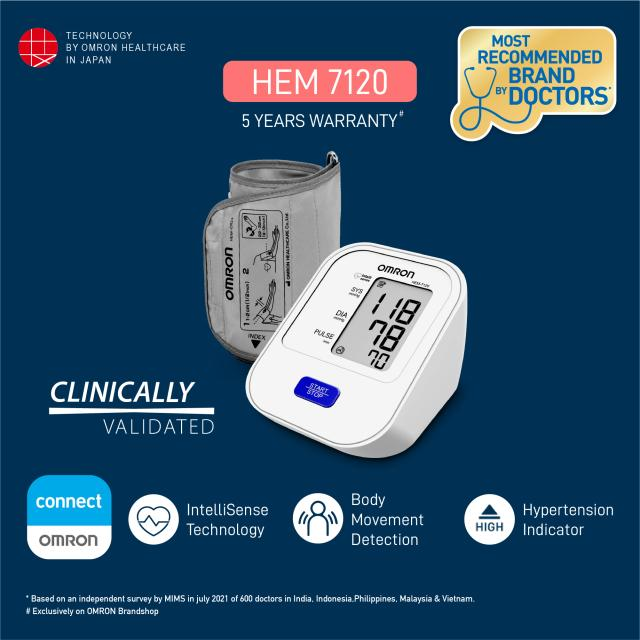dia: (354, 313, 409, 357)
pul: (356, 343, 392, 373)
ssd: (328, 260, 434, 382)
sys: (357, 284, 425, 331)
